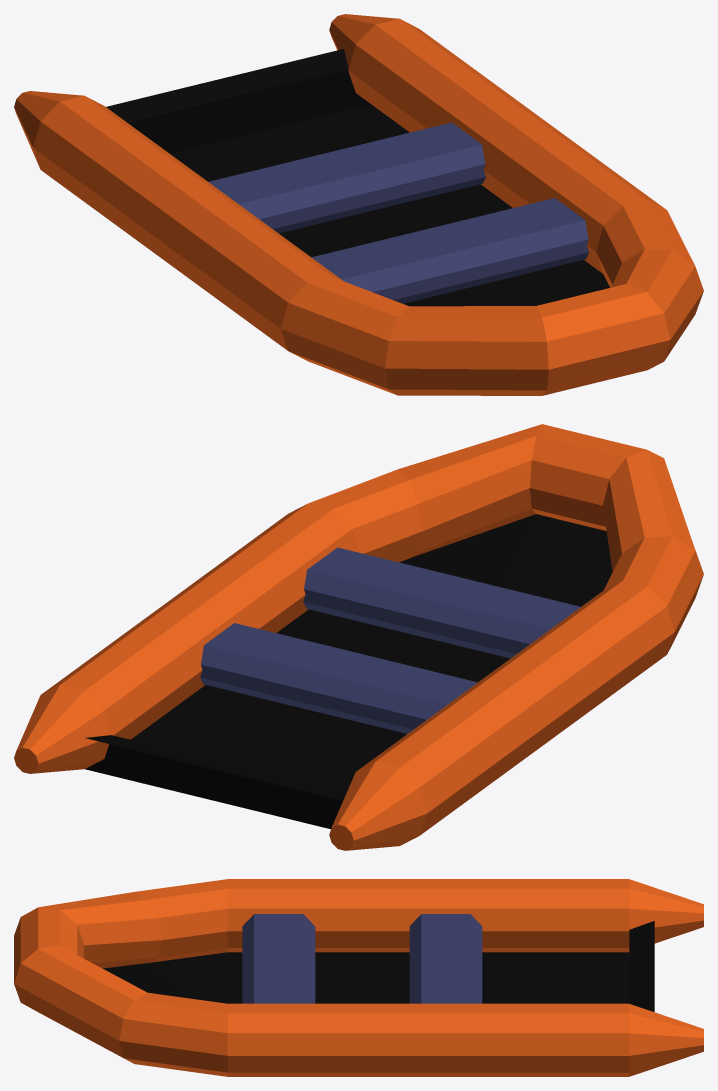
File: rubber_boat 1.fbx
The picture shows the model from 3 angles, top to bottom: view 1: azimuth 30°, elevation 25°; view 2: azimuth 150°, elevation 25°; view 3: azimuth 270°, elevation 25°; orthographic projection. The views are drawn at different scales.
Parts seen in each view (by area): view 1: Torus.001; view 2: Torus.001; view 3: Torus.001.
Boxes of the visible parts, left/top/right/bottom form: Torus.001: left=14, top=14, right=703, bottom=395; Torus.001: left=14, top=424, right=703, bottom=850; Torus.001: left=14, top=879, right=703, bottom=1076.
Size of the model in its own units: 250 by 61.15 by 468.
